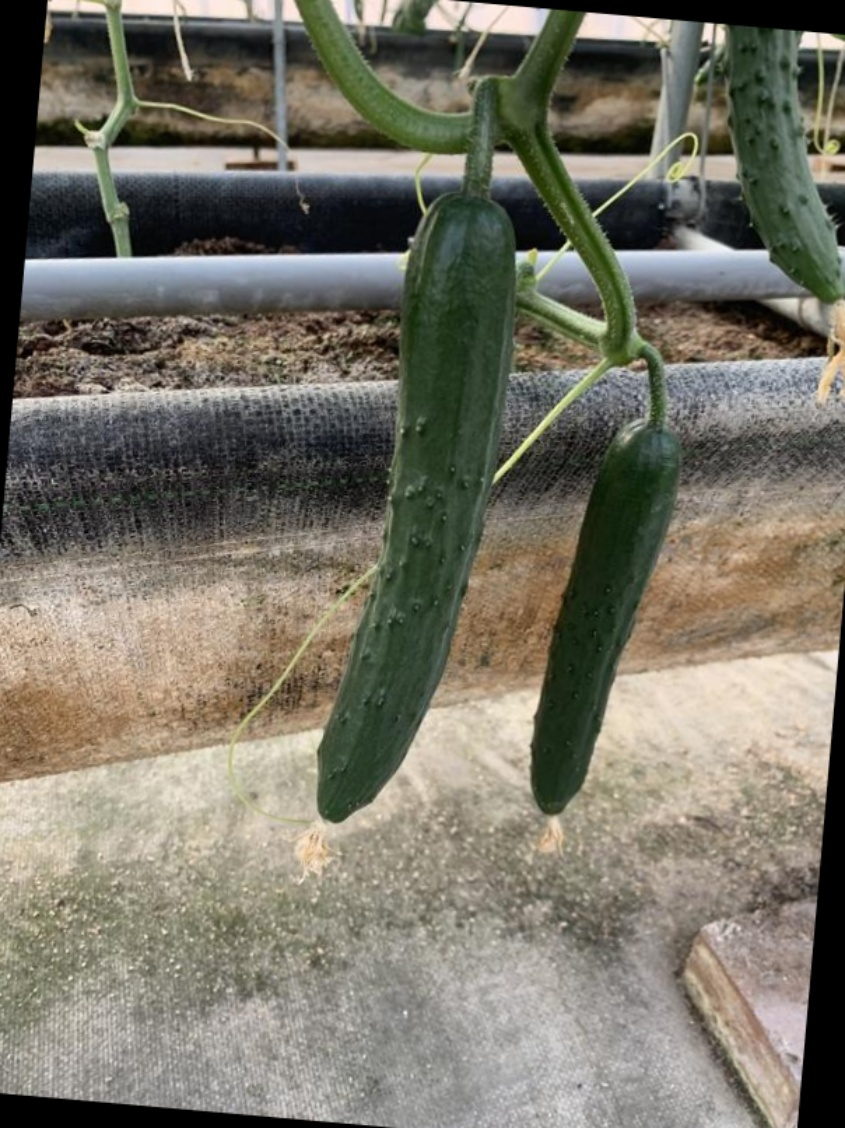mature: (520, 414, 684, 836)
